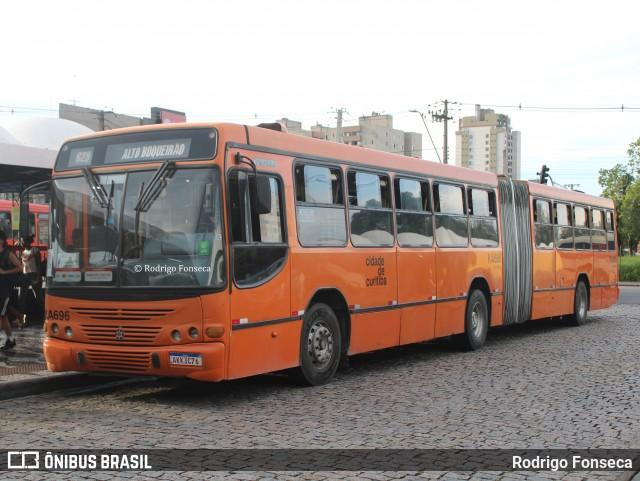ALTO BOQUEIRAO: (116, 140, 192, 163)
